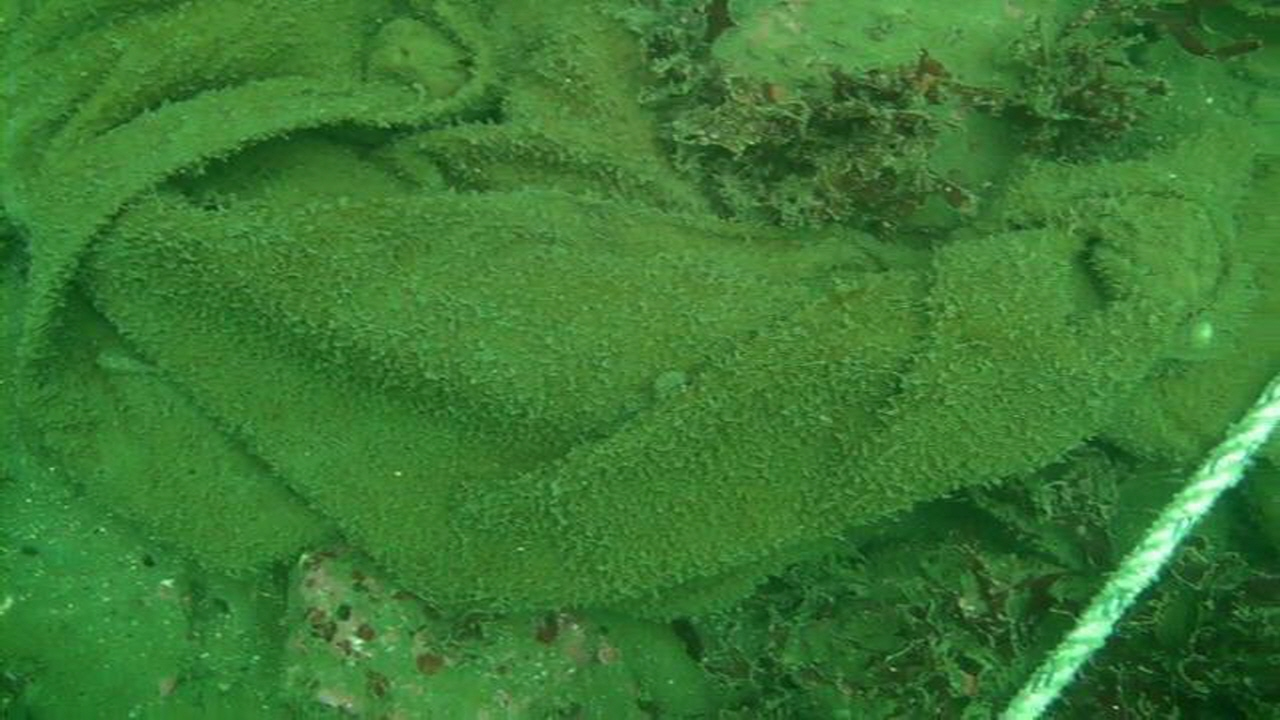rope: (996, 376, 1280, 720)
